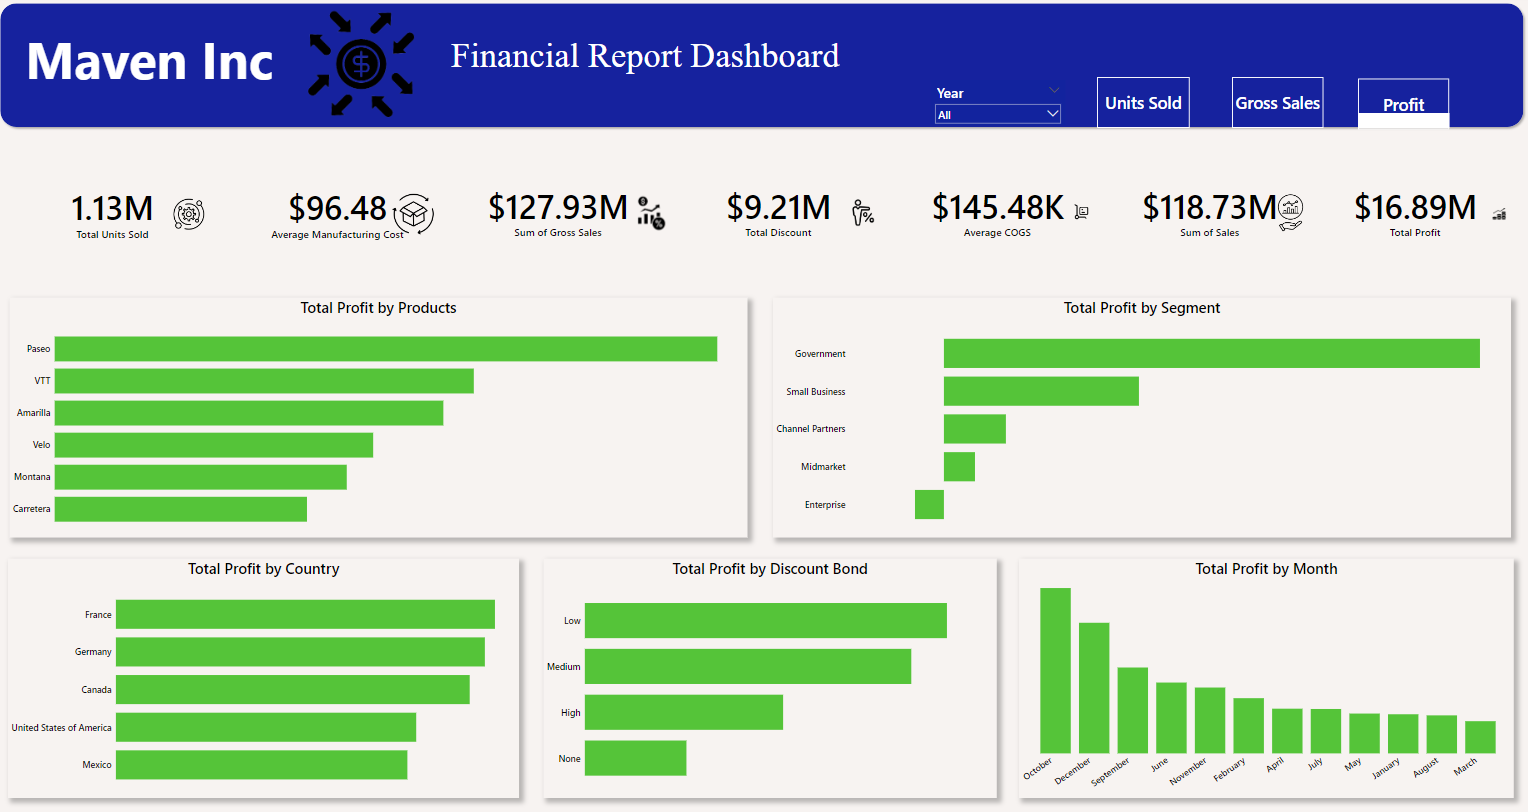

The page's visual inventory and layout, read from the dashboard file:
{"tool":"powerbi","page":{"name":"Profit","canvas":[3200,1700],"ordinal":2},"visuals":[{"type":"shape","box":[0,0,3198.8,276.3],"z":0},{"type":"textbox","box":[56.8,45.4,624.6,177.9],"z":1000},{"type":"image","box":[545.1,0,435.3,272.6],"z":2000},{"type":"textbox","box":[927.5,71.9,1241.6,132.5],"z":3000},{"type":"slicer","fields":{"Values":["financials.Year"]},"box":[1951.7,169.2,281.9,94],"z":4000},{"type":"actionButton","box":[2298.3,161.4,193.7,106.5],"z":5000},{"type":"shape","box":[2844.5,238.1,191.1,31.3],"z":6000},{"type":"actionButton","box":[2843.9,164.6,190.5,106.5],"z":7000},{"type":"card","fields":{"Values":["financials.SUM OF UNIT"]},"box":[28.2,319.5,429.2,253.8],"z":8000},{"type":"card","fields":{"Values":["financials.Average Cost"]},"box":[498.1,319.5,429.2,253.8],"z":9000},{"type":"card","fields":{"Values":["financials.Sum of Gross Sales"]},"box":[958.6,316.4,429.2,253.8],"z":10000},{"type":"card","fields":{"Values":["financials.Sum of Discount"]},"box":[1419.1,316.4,429.2,253.8],"z":11000},{"type":"card","fields":{"Values":["financials.Sum of Sales"]},"box":[2337,316.4,394.7,253.8],"z":12000},{"type":"card","fields":{"Values":["financials.Sum of COGS"]},"box":[1882.8,316.4,416.7,253.8],"z":13000},{"type":"card","fields":{"Values":["financials.Total Profit"]},"box":[2763.1,316.4,401,253.8],"z":14000},{"type":"image","box":[347.7,363.4,109.6,172.3],"z":15000},{"type":"image","box":[814.5,363.4,112.8,172.3],"z":16000},{"type":"image","box":[1318.9,360.3,100.2,172.3],"z":17000},{"type":"image","box":[1773.1,360.3,75.2,172.3],"z":18000},{"type":"image","box":[2650.3,360.3,106.5,172.3],"z":19000},{"type":"image","box":[3113.9,363.4,50.1,169.2],"z":20000},{"type":"image","box":[2233.6,357.1,65.8,172.3],"z":21000},{"type":"clusteredBarChart","title":"Total Profit by Products","fields":{"Category":["financials.Product"],"Y":["Sum(financials.Profit)"]},"box":[28.2,623.4,1541.3,501.2],"z":22000},{"type":"clusteredBarChart","title":"Total Profit by Products","fields":{"Y":["Sum(financials.Profit)"],"Category":["financials.Segment"]},"box":[1622.8,623.4,1541.3,501.2],"z":23000},{"type":"clusteredBarChart","title":"Total Profit by Country","fields":{"Category":["financials.Country"],"Y":["Sum(financials.Profit)"]},"box":[26.5,1169.7,1067.5,499.7],"z":24000},{"type":"clusteredBarChart","title":"Total Profit by Discount Bond","fields":{"Category":["financials.Discount Band"],"Y":["Sum(financials.Profit)"]},"box":[1143.2,1169.7,946.4,499.7],"z":25000},{"type":"clusteredColumnChart","title":"Total Profit by Month","fields":{"Category":["financials.Month Name"],"Y":["Sum(financials.Profit)"]},"box":[2135,1169.7,1033.4,499.7],"z":26000},{"type":"actionButton","box":[2581.4,162.9,191.1,106.5],"z":27000}]}

Visuals, with their boxes in screenshot pixels (x1, y1, x2, y2), scaled from the page's 3200x1700 canvas onto the 1528x812 screenshot:
shape: pyautogui.locateOnScreen(0, 0, 1527, 132)
textbox: pyautogui.locateOnScreen(27, 22, 325, 107)
image: pyautogui.locateOnScreen(260, 0, 468, 130)
textbox: pyautogui.locateOnScreen(443, 34, 1036, 98)
slicer - financials.Year: pyautogui.locateOnScreen(932, 81, 1067, 126)
actionButton: pyautogui.locateOnScreen(1097, 77, 1190, 128)
shape: pyautogui.locateOnScreen(1358, 114, 1449, 129)
actionButton: pyautogui.locateOnScreen(1358, 79, 1449, 129)
card - financials.SUM OF UNIT: pyautogui.locateOnScreen(13, 153, 218, 274)
card - financials.Average Cost: pyautogui.locateOnScreen(238, 153, 443, 274)
card - financials.Sum of Gross Sales: pyautogui.locateOnScreen(458, 151, 663, 272)
card - financials.Sum of Discount: pyautogui.locateOnScreen(678, 151, 883, 272)
card - financials.Sum of Sales: pyautogui.locateOnScreen(1116, 151, 1304, 272)
card - financials.Sum of COGS: pyautogui.locateOnScreen(899, 151, 1098, 272)
card - financials.Total Profit: pyautogui.locateOnScreen(1319, 151, 1511, 272)
image: pyautogui.locateOnScreen(166, 174, 218, 256)
image: pyautogui.locateOnScreen(389, 174, 443, 256)
image: pyautogui.locateOnScreen(630, 172, 678, 254)
image: pyautogui.locateOnScreen(847, 172, 883, 254)
image: pyautogui.locateOnScreen(1266, 172, 1316, 254)
image: pyautogui.locateOnScreen(1487, 174, 1511, 254)
image: pyautogui.locateOnScreen(1067, 171, 1098, 253)
"Total Profit by Products" clusteredBarChart: pyautogui.locateOnScreen(13, 298, 749, 537)
"Total Profit by Products" clusteredBarChart: pyautogui.locateOnScreen(775, 298, 1511, 537)
"Total Profit by Country" clusteredBarChart: pyautogui.locateOnScreen(13, 559, 522, 797)
"Total Profit by Discount Bond" clusteredBarChart: pyautogui.locateOnScreen(546, 559, 998, 797)
"Total Profit by Month" clusteredColumnChart: pyautogui.locateOnScreen(1019, 559, 1513, 797)
actionButton: pyautogui.locateOnScreen(1233, 78, 1324, 129)
